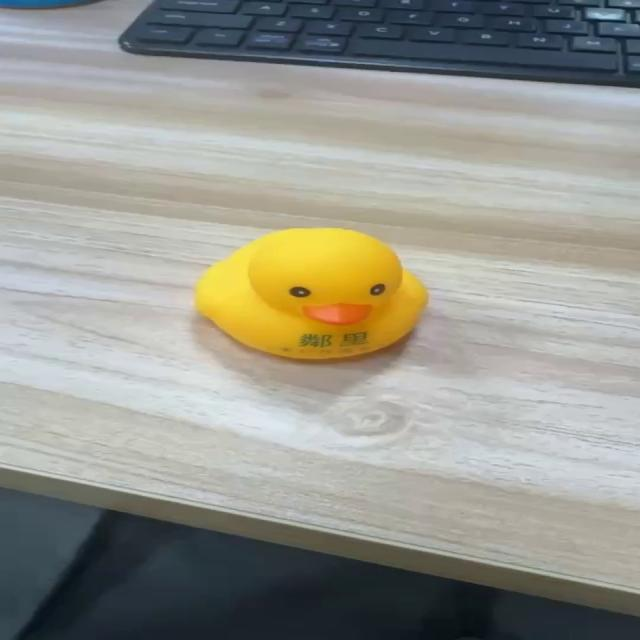yellow_duck: (192, 226, 429, 361)
